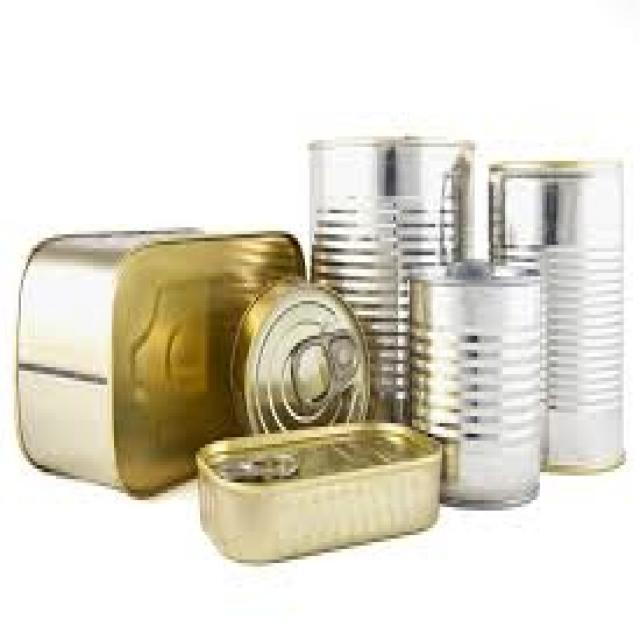recyclable: (14, 231, 303, 507), (304, 136, 472, 413), (486, 154, 622, 472), (191, 416, 440, 563), (407, 258, 538, 508), (226, 272, 374, 430)
